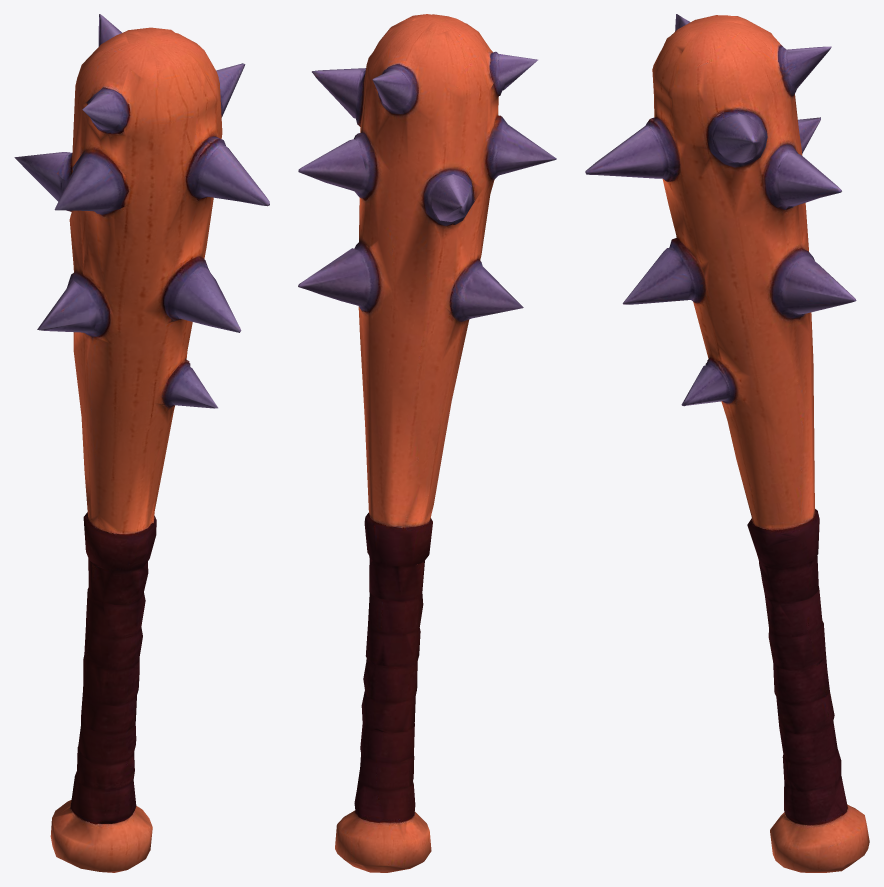
Rendered from paira_bate.glb.
The picture shows the model from 3 angles, left to right: view 1: azimuth 30°, elevation 25°; view 2: azimuth 150°, elevation 25°; view 3: azimuth 270°, elevation 25°; orthographic projection. The views are drawn at different scales.
Parts seen in each view (by area): view 1: geometry_0; view 2: geometry_0; view 3: geometry_0.
Boxes of the visible parts, x1,y1,x2,y2 form: geometry_0: (14,14,269,872); geometry_0: (298,14,556,872); geometry_0: (585,14,869,872).
Bounding box in the file's own units: 0.273 × 1 × 0.3054.
1 material, 1 textured.
